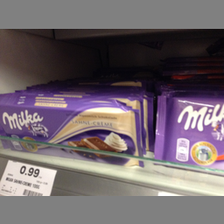chocolate: (1, 94, 145, 170), (152, 96, 224, 169)
